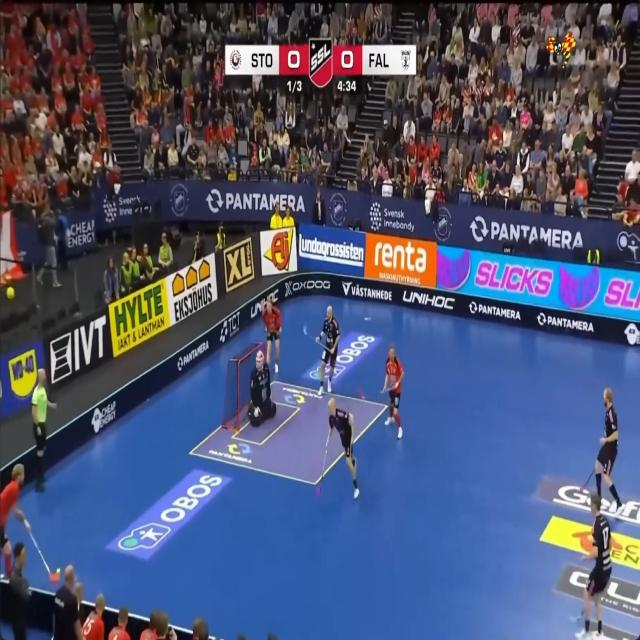Balls: (56, 567, 61, 572)
player: (576, 494, 611, 639), (595, 387, 623, 510), (0, 463, 30, 575), (328, 399, 359, 498), (248, 350, 276, 426), (317, 306, 339, 395), (384, 344, 404, 439), (262, 299, 281, 373), (81, 593, 105, 639), (108, 608, 131, 639)
stick: (29, 529, 59, 582), (316, 431, 330, 494), (303, 325, 320, 343), (570, 609, 584, 626), (582, 469, 594, 488), (356, 387, 366, 399), (379, 385, 392, 393)
